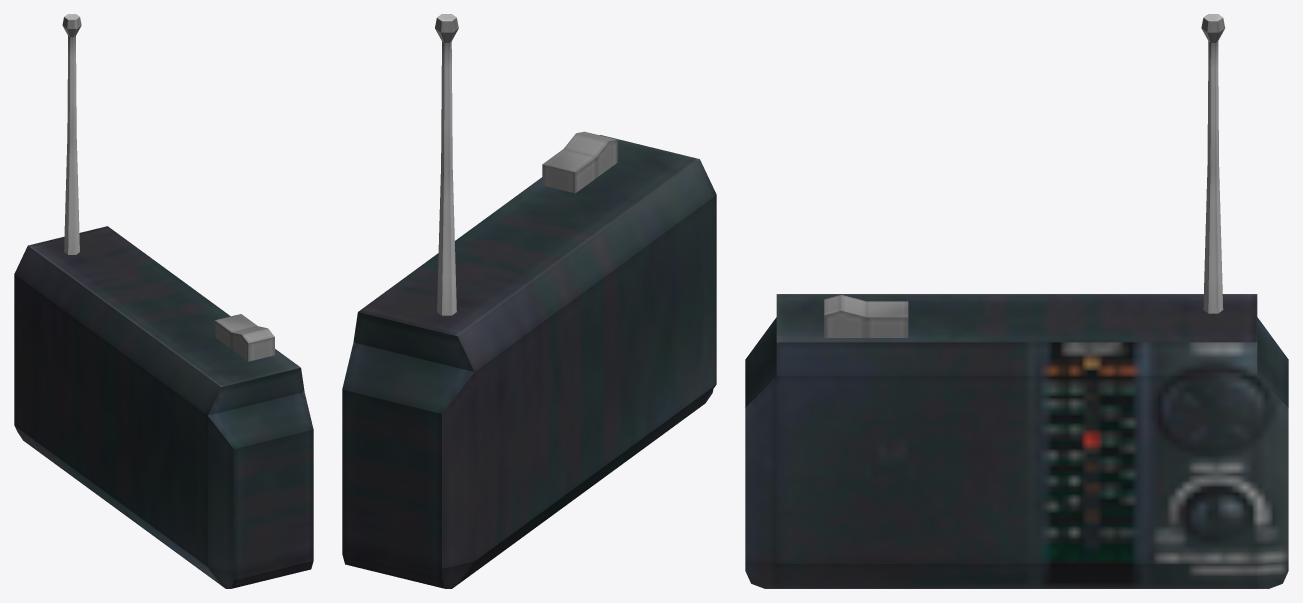
The model's file is Radio.fbx.
3 views of the same model, side by side, from view 1: azimuth 30°, elevation 25°; view 2: azimuth 150°, elevation 25°; view 3: azimuth 270°, elevation 25° (orthographic). The views are drawn at different scales.
Visible parts, largest first — view 1: Cube; view 2: Cube; view 3: Cube.
Boxes of the visible parts, x1,y1,x2,y2 form: Cube: [14, 14, 313, 588]; Cube: [342, 14, 716, 588]; Cube: [745, 14, 1288, 588].
Bounding box in the file's own units: 57.81 × 247 × 226.
